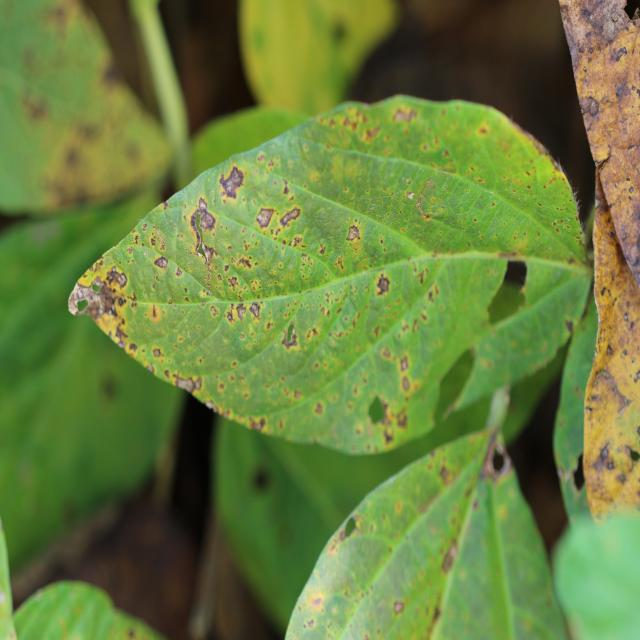Bacterial_Blight: (367, 391, 408, 443), (590, 367, 628, 415), (185, 202, 224, 246), (219, 164, 245, 200), (173, 373, 201, 394), (106, 265, 129, 290), (441, 543, 458, 573), (281, 322, 299, 349), (280, 207, 301, 228), (255, 207, 276, 228), (392, 106, 416, 123), (376, 274, 390, 294), (115, 324, 129, 344), (599, 442, 612, 463), (346, 225, 361, 242), (438, 465, 452, 483), (154, 255, 169, 269), (237, 255, 252, 269), (249, 302, 261, 319), (615, 48, 628, 62), (235, 304, 246, 320), (229, 276, 238, 288)
Soybean: (69, 96, 589, 455)
